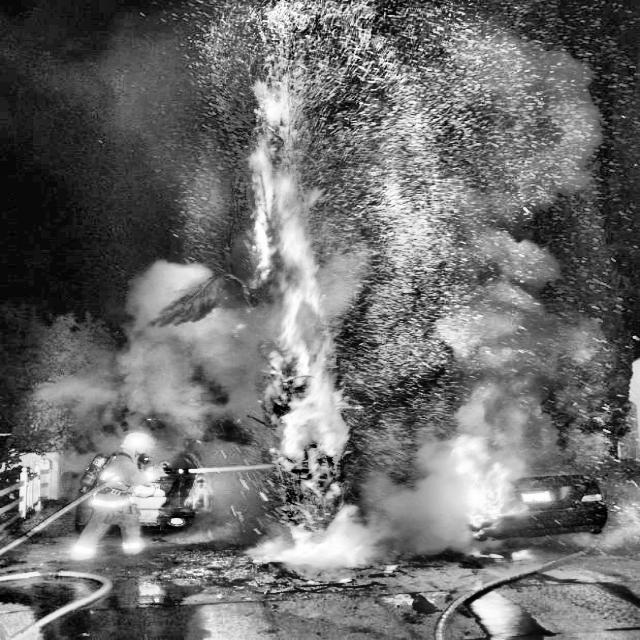fire: (117, 16, 603, 588)
